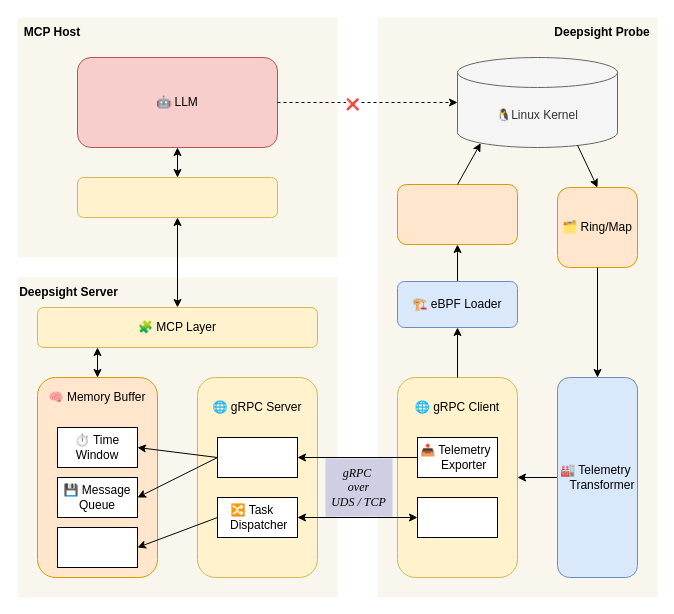
Image size: 674x614. Some labels were removed from this diagram. Here are the shapes that lost their labels. From the top down, the centre of each, then its label:
the point at 177,197: 🔌 MCP Client
the point at 457,214: 🔍 eBPF Probe
the point at 257,457: 📥 Telemetry Ingester
the point at 457,517: 🛠️ Task Executor
the point at 97,547: ⚙️ State Machine
